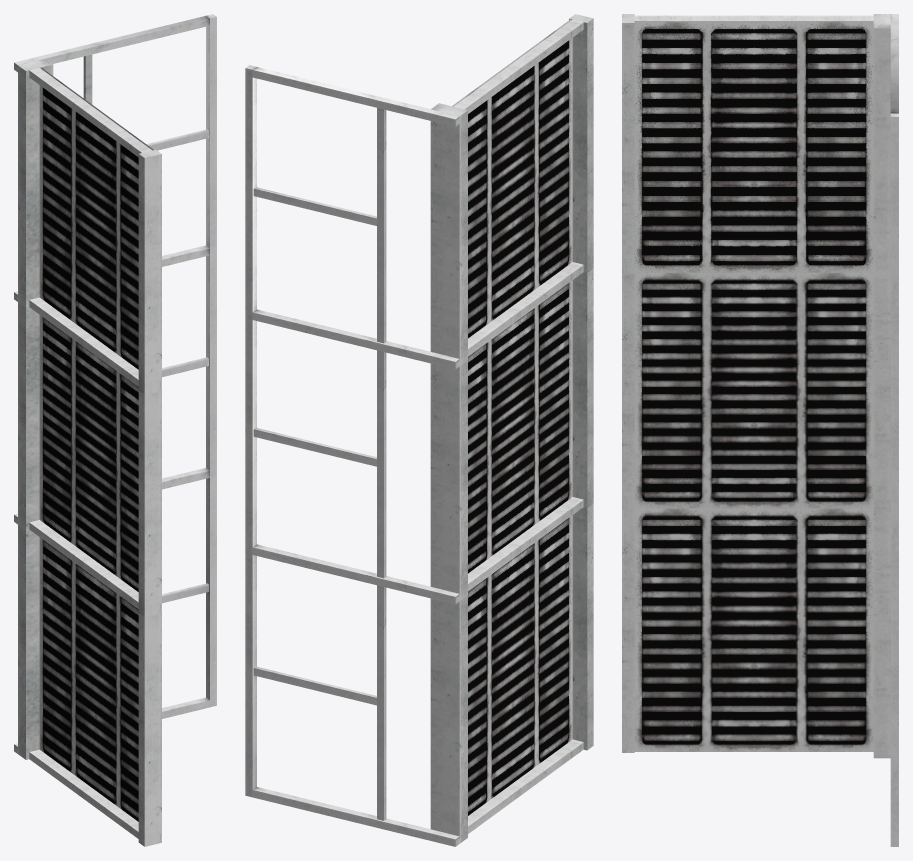
File: S_CatwalkSystem_04b.dae
The picture shows the model from 3 angles, left to right: view 1: azimuth 30°, elevation 25°; view 2: azimuth 150°, elevation 25°; view 3: azimuth 270°, elevation 25°; orthographic projection. The views are drawn at different scales.
Parts seen in each view (by area): view 1: S_CatwalkSystem_04b.001; view 2: S_CatwalkSystem_04b.001; view 3: S_CatwalkSystem_04b.001.
Part boxes in pixels (<box>): S_CatwalkSystem_04b.001: <box>14,14,216,846</box>; S_CatwalkSystem_04b.001: <box>245,14,593,846</box>; S_CatwalkSystem_04b.001: <box>622,14,898,846</box>.
Size of the model in its own units: 1.16 by 1.32 by 3.84.
